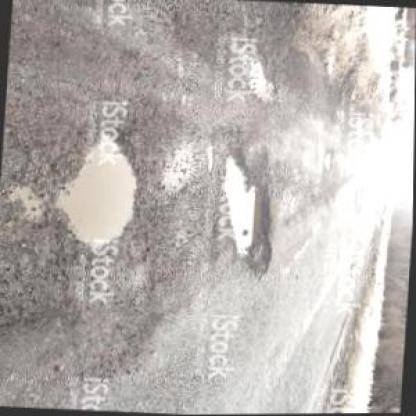pothole: (56, 132, 144, 255), (214, 143, 282, 276)
